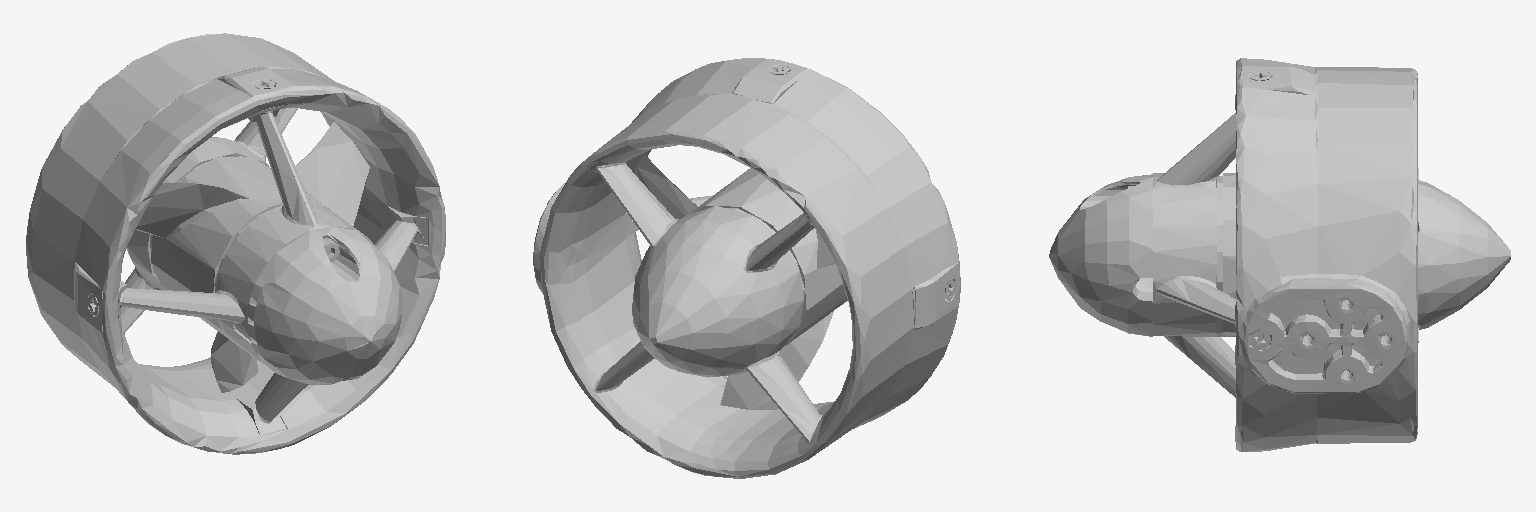
The model's file is thruster_sur.obj.
The picture shows the model from 3 angles: view 1: azimuth 30°, elevation 25°; view 2: azimuth 150°, elevation 25°; view 3: azimuth 270°, elevation 25°; orthographic projection.
Bounding box in the file's own units: 0.0973 × 0.0966 × 0.1127.